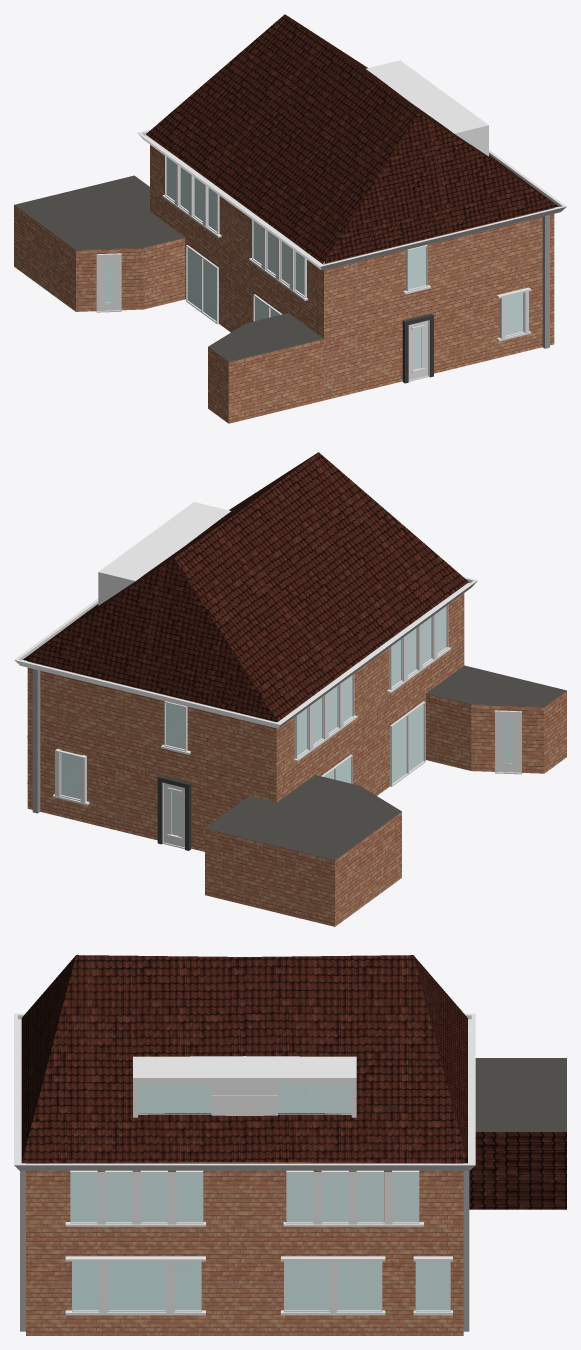
File: Greide 6 en 8.fbx
3 renders of one model, top to bottom at view 1: azimuth 30°, elevation 25°; view 2: azimuth 150°, elevation 25°; view 3: azimuth 270°, elevation 25°, orthographic. The views are drawn at different scales.
Visible parts, largest first — view 1: Greide_6_8; view 2: Greide_6_8; view 3: Greide_6_8.
Part boxes in pixels (bbox=[...]): Greide_6_8: bbox=[14, 14, 566, 423]; Greide_6_8: bbox=[14, 452, 566, 926]; Greide_6_8: bbox=[14, 955, 566, 1335].
Bounding box in the file's own units: 14.46 × 10.21 × 16.48.
1 material, 1 textured.
